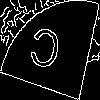C: (25, 24, 64, 81)
